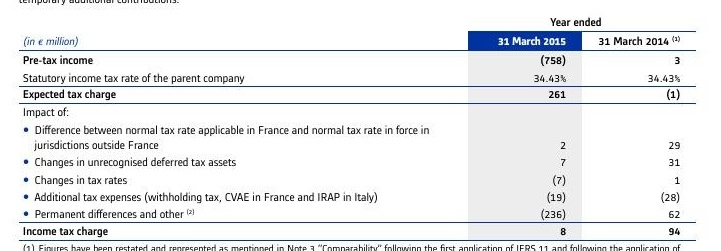table: (0, 0, 721, 251)
